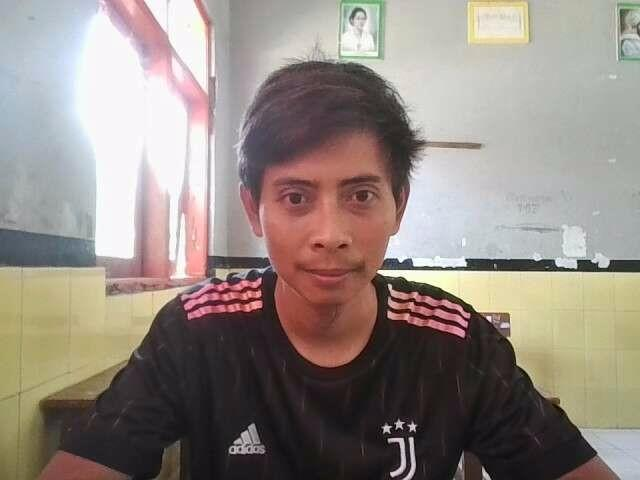good: (27, 47, 625, 480)
